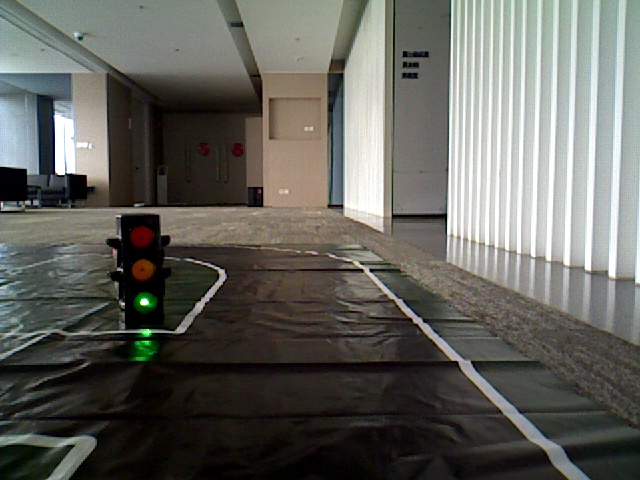green: (124, 220, 154, 315)
